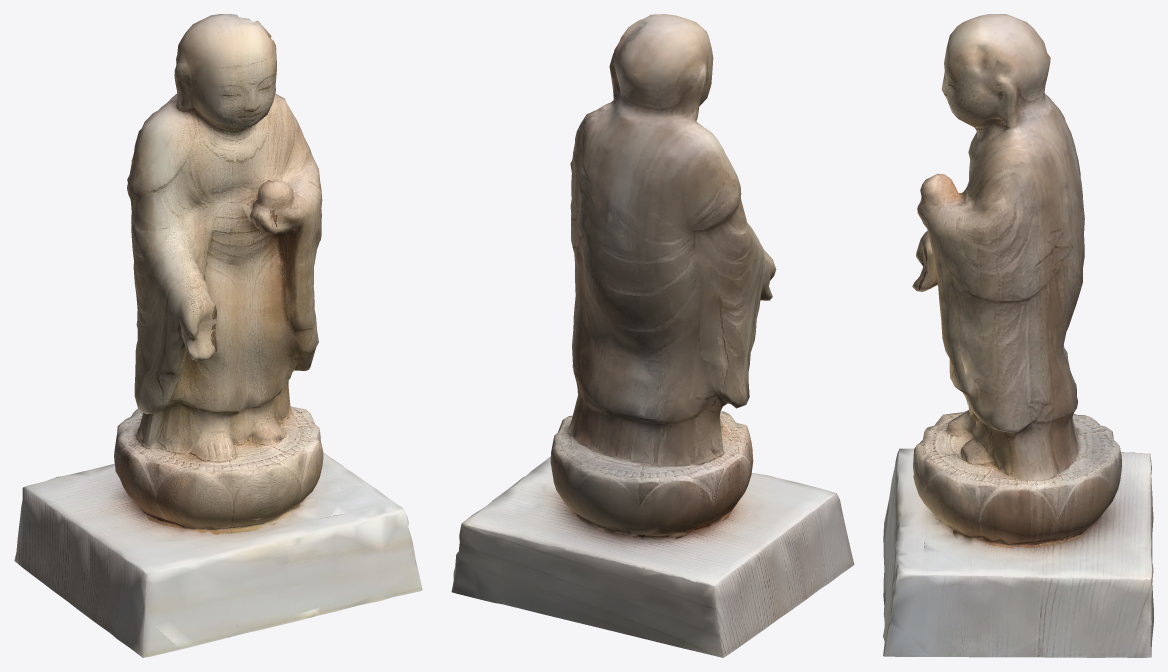
Rendered from arhat-jizo-lotus.glb.
3 renders of one model, left to right at view 1: azimuth 30°, elevation 25°; view 2: azimuth 150°, elevation 25°; view 3: azimuth 270°, elevation 25°, orthographic. The views are drawn at different scales.
Parts seen in each view (by area): view 1: arhat-jizo-lotus-low; view 2: arhat-jizo-lotus-low; view 3: arhat-jizo-lotus-low.
Part boxes in pixels (left/top/right/bottom): arhat-jizo-lotus-low: left=14, top=14, right=422, bottom=657; arhat-jizo-lotus-low: left=451, top=14, right=854, bottom=657; arhat-jizo-lotus-low: left=883, top=14, right=1153, bottom=657.
Bounding box in the file's own units: 0.523 × 0.9999 × 0.4326.
1 material, 1 textured.
